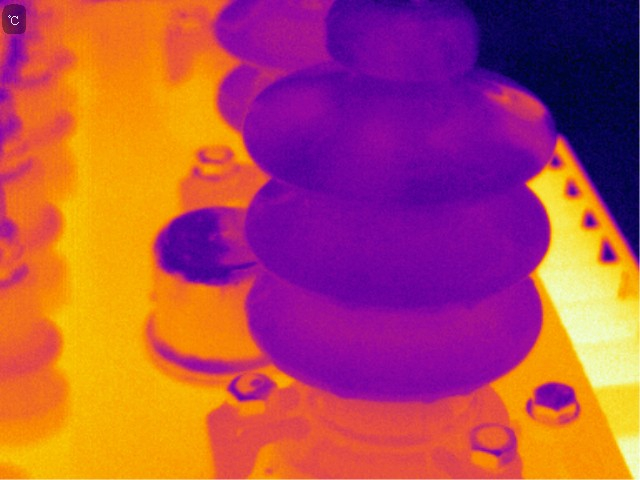Oil: (476, 79, 548, 127), (281, 93, 331, 126), (505, 126, 551, 157)
